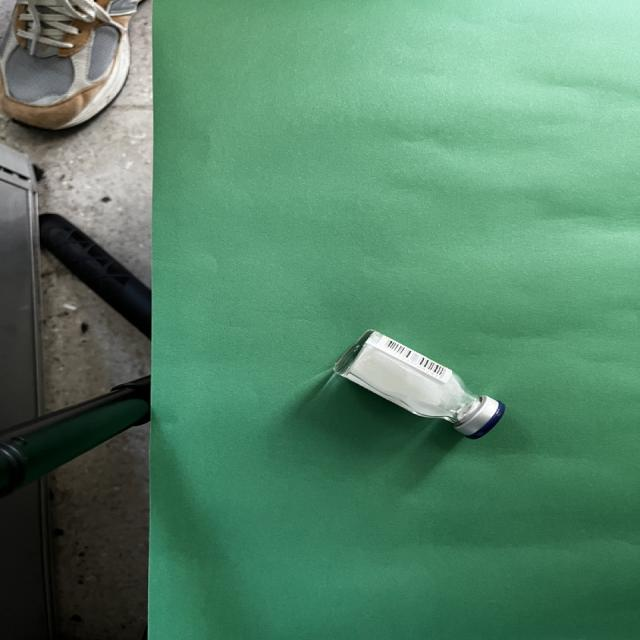Vials: (333, 330, 506, 440)
